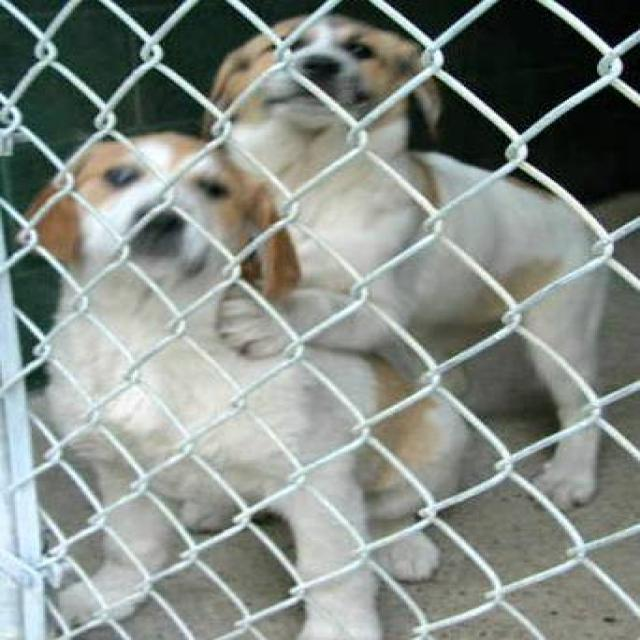dog: (198, 11, 614, 580), (13, 128, 470, 639)
